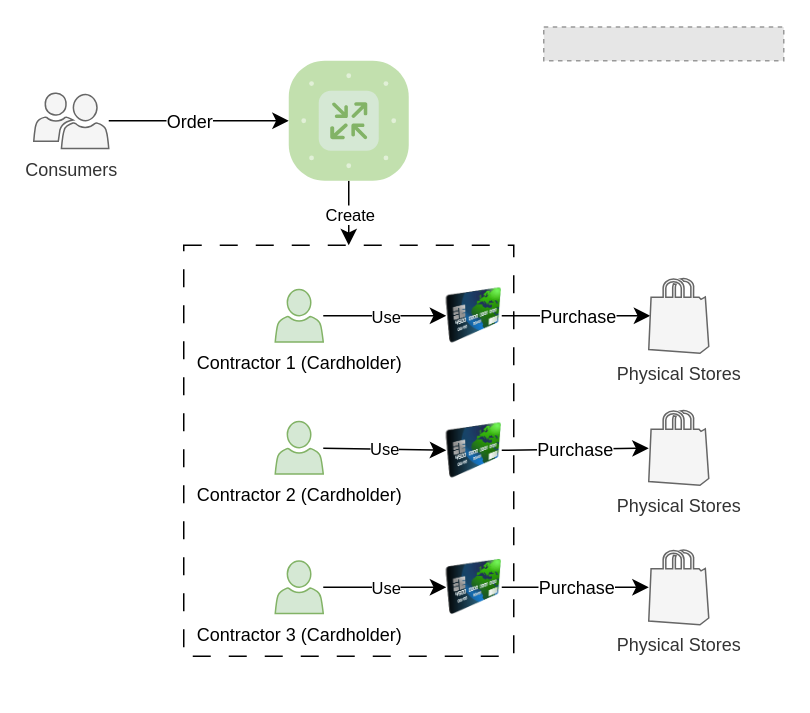
Some shapes in this 810 by 713 pixel diagram are drawn without their labels. Grey dashed boxes stand in for pictures. Here are the shapes that lost their labels. From the top down, the box of each, then its label:
(287, 59, 409, 181): ShopForYou Airwallex Account
(182, 244, 514, 656): Individual Cardholders
